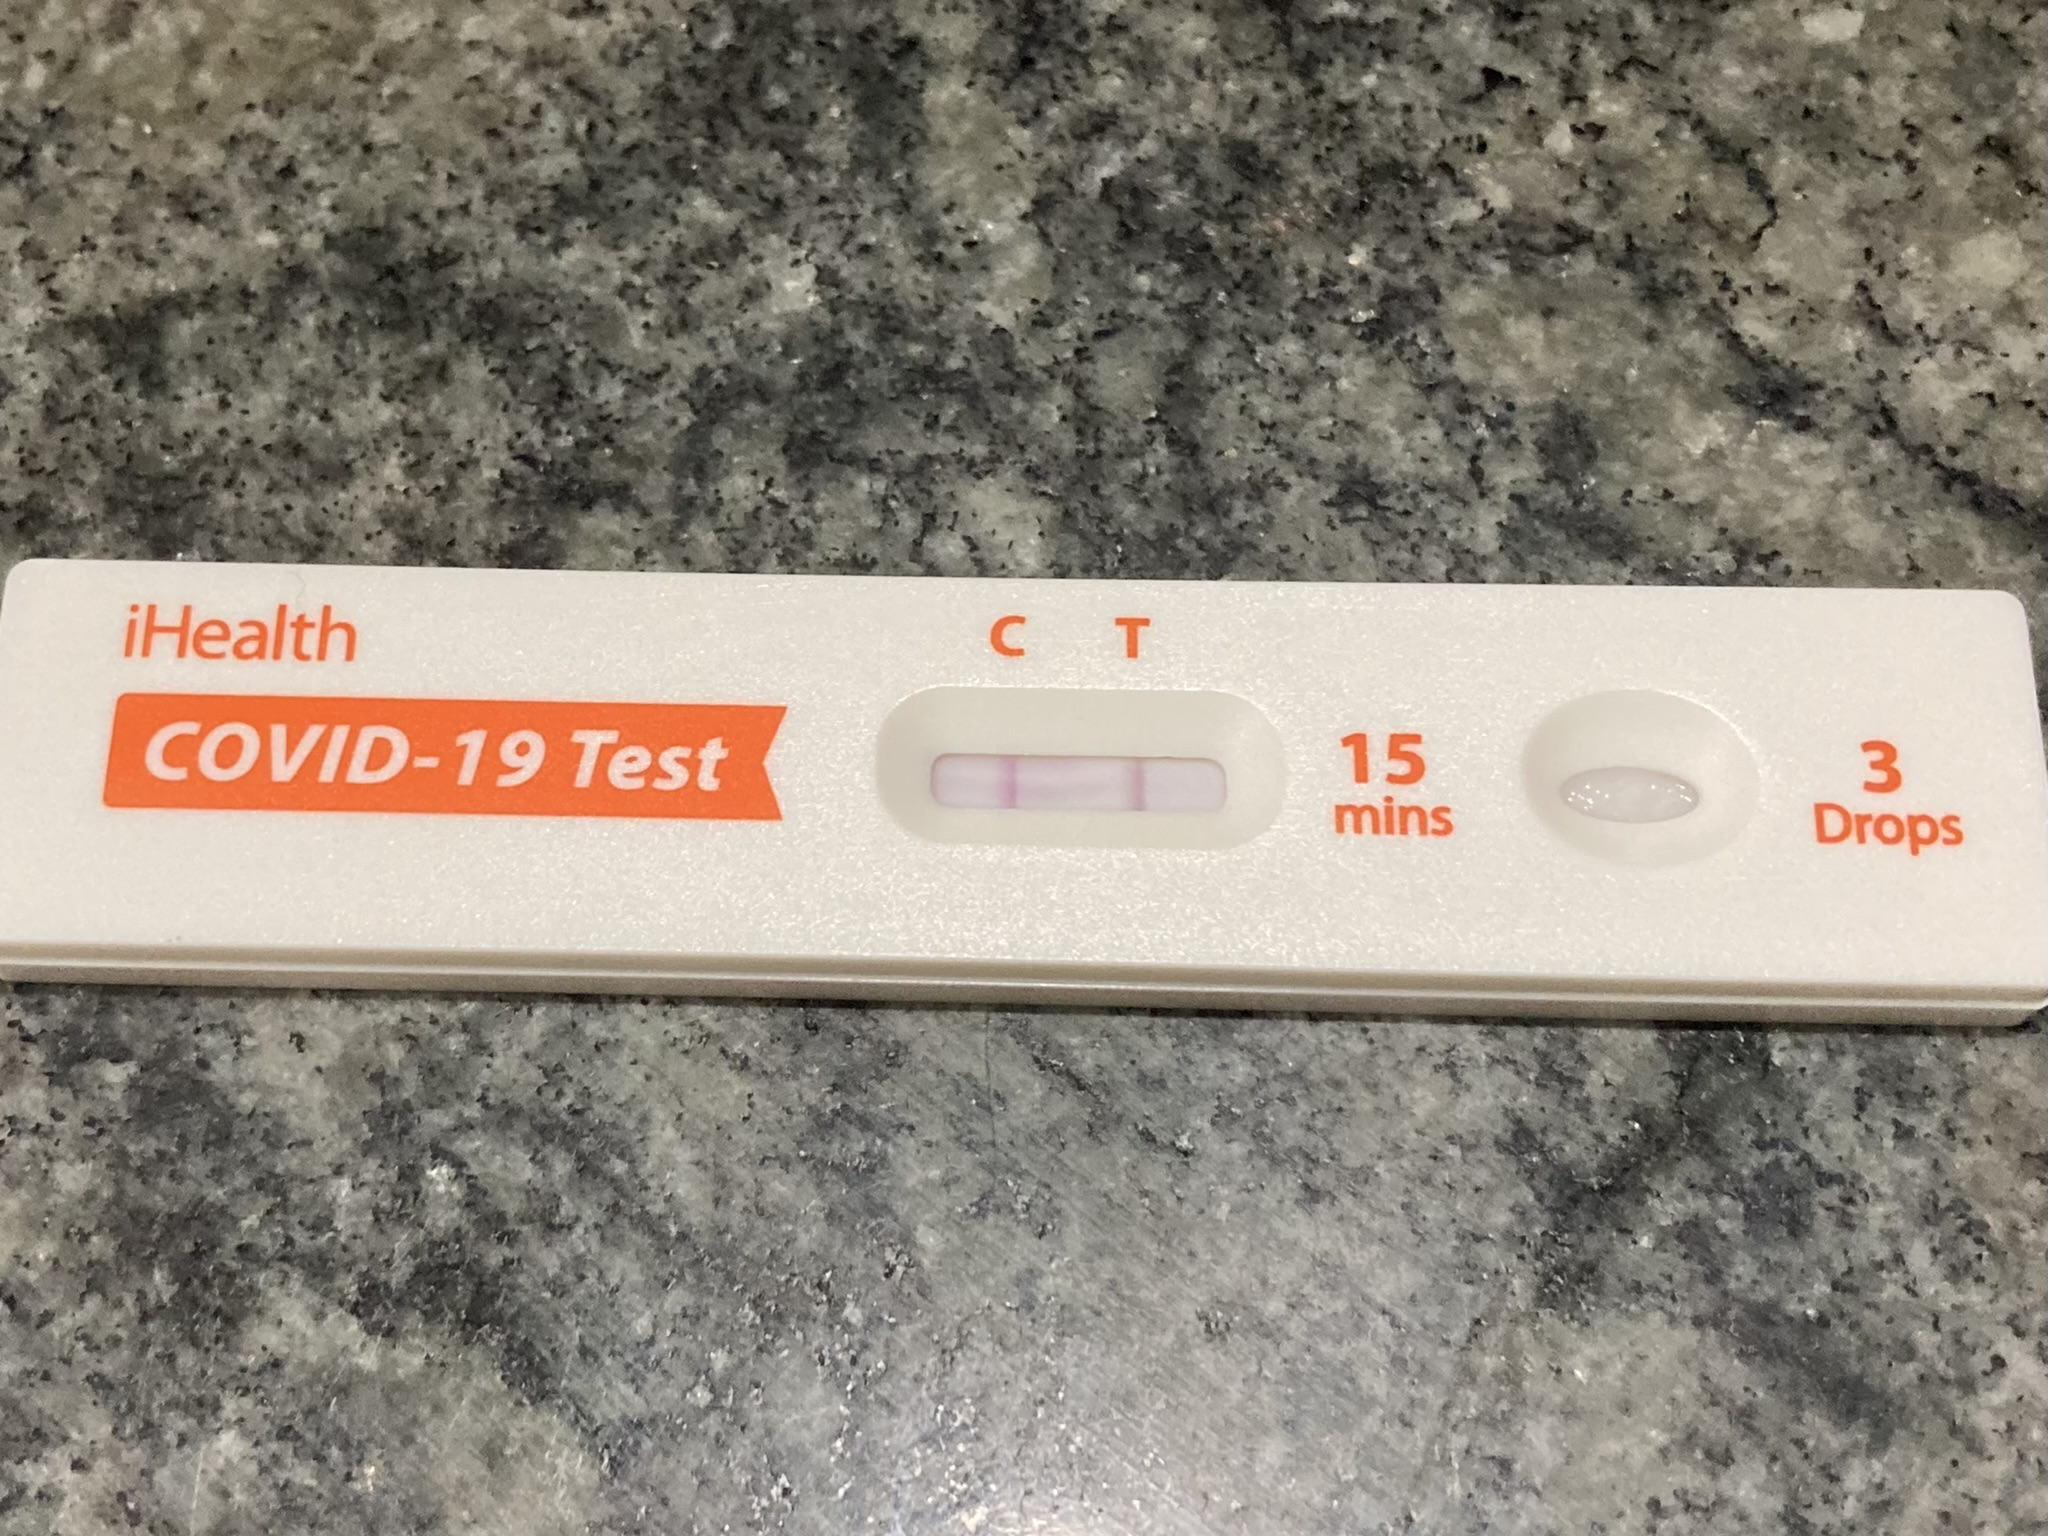positive: (897, 716, 1243, 837)
